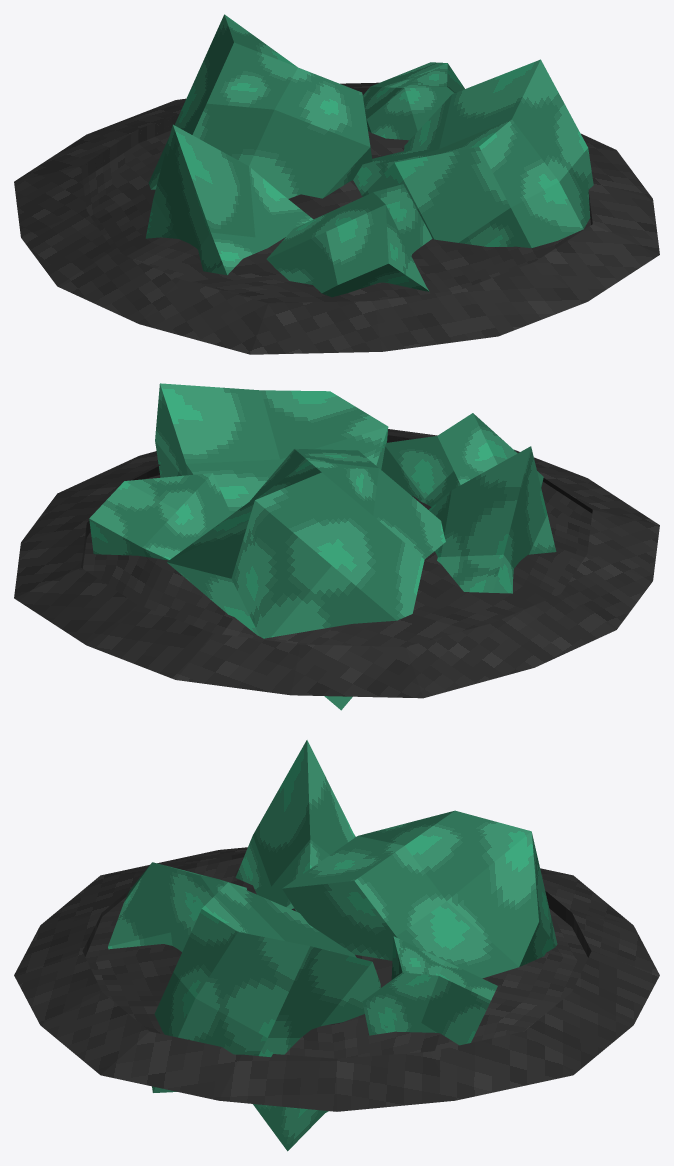
File: DimetaDeposit.glb
3 renders of one model, top to bottom at view 1: azimuth 30°, elevation 25°; view 2: azimuth 150°, elevation 25°; view 3: azimuth 270°, elevation 25°, orthographic.
Visible parts, largest first — view 1: Cube, Cube.002, Cube.001, Cube.005, Cube.003, Cube.004; view 2: Cube, Cube.001, Cube.002, Cube.005, Cube.004, Cube.003; view 3: Cube, Cube.001, Cube.002, Cube.005, Cube.004, Cube.003.
Part boxes in pixels (bbox=[...]): Cube: bbox=[14, 82, 659, 354]; Cube.002: bbox=[353, 59, 593, 248]; Cube.001: bbox=[148, 14, 372, 198]; Cube.005: bbox=[145, 124, 313, 275]; Cube.003: bbox=[266, 184, 432, 297]; Cube.004: bbox=[363, 62, 464, 140]; Cube: bbox=[14, 429, 659, 698]; Cube.001: bbox=[167, 448, 445, 710]; Cube.002: bbox=[155, 383, 388, 514]; Cube.005: bbox=[429, 446, 556, 593]; Cube.004: bbox=[89, 473, 231, 560]; Cube.003: bbox=[381, 413, 543, 506]; Cube: bbox=[14, 847, 659, 1111]; Cube.001: bbox=[282, 810, 557, 978]; Cube.002: bbox=[152, 882, 380, 1151]; Cube.005: bbox=[235, 740, 355, 909]; Cube.004: bbox=[362, 936, 497, 1045]; Cube.003: bbox=[108, 862, 246, 951].
Bounding box in the file's own units: 5.6 × 2.24 × 5.6.
Materials: 2 (2 with a texture image).
